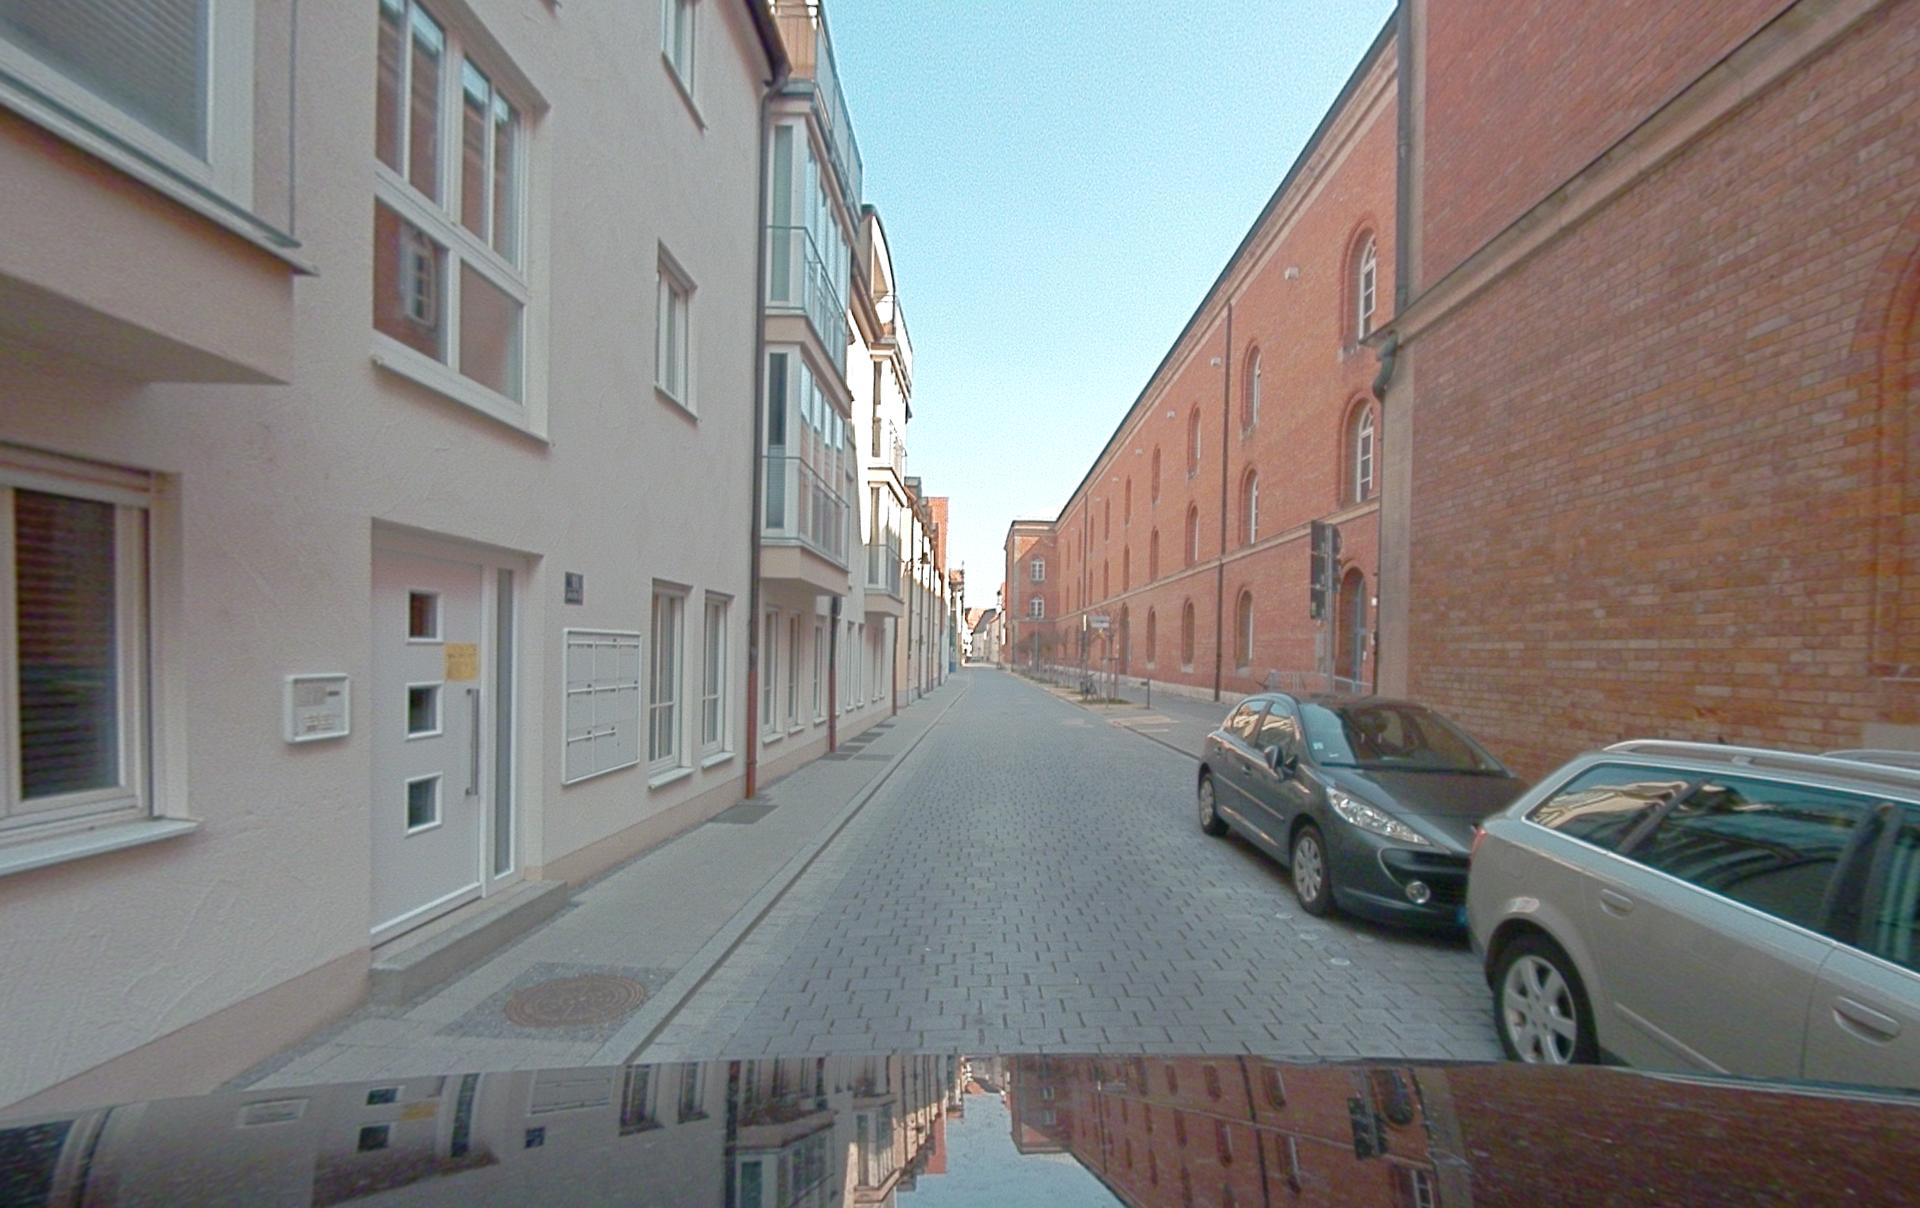car: (1464, 738, 1919, 1101), (1195, 690, 1529, 935)
